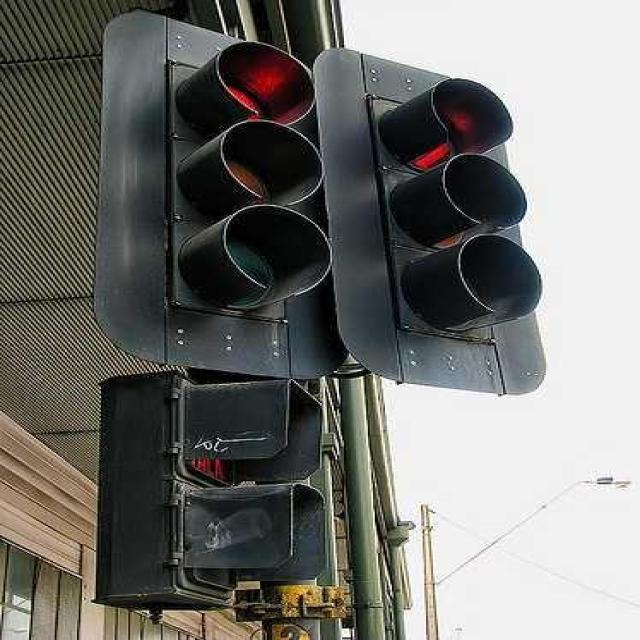Traffic Light -Red-: (156, 30, 330, 316), (380, 81, 546, 373)
